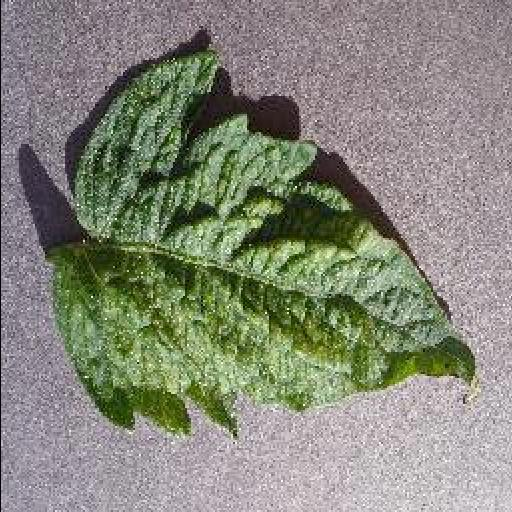disease_tomato: (47, 54, 477, 432)
